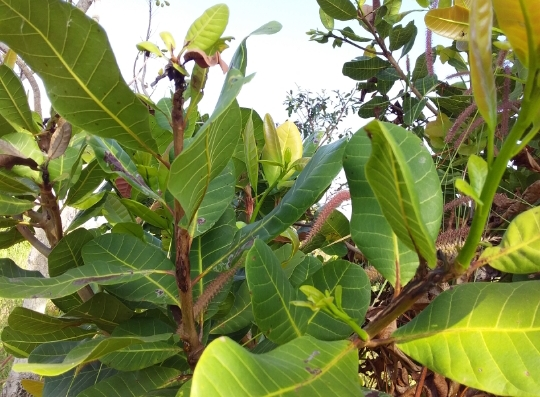Dessèchement des bourgeons: (397, 259, 457, 300), (29, 129, 65, 195), (163, 54, 196, 114), (174, 226, 196, 294)
